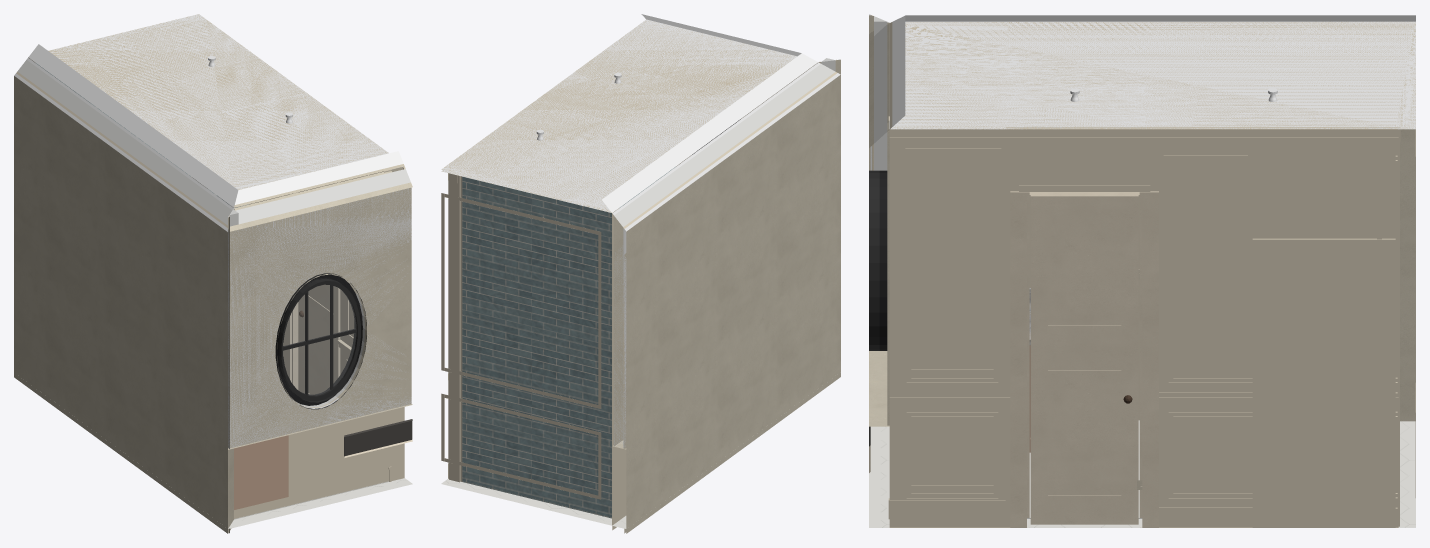
File: blue-bath-769226db25d2.glb
3 renders of one model, left to right at view 1: azimuth 30°, elevation 25°; view 2: azimuth 150°, elevation 25°; view 3: azimuth 270°, elevation 25°, orthographic. The views are drawn at different scales.
Visible parts, largest first — view 1: blue-bath-312b4ac1be39223d, blue-bath-bddaf205afbd60c0, blue-bath-e8793759323e04f0, blue-bath-9d91b47435c6fb33, blue-bath-33ee0b466567e5f0, blue-bath-df3e1f21720b0c39, blue-bath-d227da791438a32f, blue-bath-2f7d8eff34a2c180, blue-bath-39b94aca90fa4b53, blue-bath-bb2a37e95c56944b, blue-bath-bf159a19de53e60e, blue-bath-64753ebcb3824a84 (+7 smaller); view 2: blue-bath-312b4ac1be39223d, blue-bath-81319d6284883901, blue-bath-9d91b47435c6fb33, blue-bath-e8793759323e04f0, blue-bath-33ee0b466567e5f0, blue-bath-39b94aca90fa4b53, blue-bath-ed5fdcd3ee9c0dd5, blue-bath-3a4d9d62ecd7be1c, blue-bath-06754748489735a0, blue-bath-6e269356ae8bfd70, blue-bath-b63ee86b16afd4c0, blue-bath-0e16aad907f7d881 (+1 smaller); view 3: blue-bath-9d91b47435c6fb33, blue-bath-ed5fdcd3ee9c0dd5, blue-bath-ead09a0b3f9e3bd9, blue-bath-bf159a19de53e60e, blue-bath-3e649b0d114ae387, blue-bath-e8793759323e04f0, blue-bath-8798d08755b4aa77, blue-bath-8f5d8501f6e548f5, blue-bath-6e269356ae8bfd70, blue-bath-0e16aad907f7d881, blue-bath-d8e4d1e2b1f6ec6c, blue-bath-d227da791438a32f (+18 smaller).
Boxes of the visible parts, <box> form: blue-bath-312b4ac1be39223d: <box>14,73,229,449</box>; blue-bath-bddaf205afbd60c0: <box>230,182,411,447</box>; blue-bath-e8793759323e04f0: <box>30,14,403,204</box>; blue-bath-9d91b47435c6fb33: <box>28,14,404,207</box>; blue-bath-33ee0b466567e5f0: <box>14,293,228,533</box>; blue-bath-df3e1f21720b0c39: <box>229,184,412,448</box>; blue-bath-d227da791438a32f: <box>275,273,366,409</box>; blue-bath-2f7d8eff34a2c180: <box>228,404,412,533</box>; blue-bath-39b94aca90fa4b53: <box>17,60,238,226</box>; blue-bath-bb2a37e95c56944b: <box>234,435,288,509</box>; blue-bath-bf159a19de53e60e: <box>298,183,335,394</box>; blue-bath-64753ebcb3824a84: <box>235,169,410,407</box>; blue-bath-312b4ac1be39223d: <box>624,59,840,449</box>; blue-bath-81319d6284883901: <box>462,177,611,518</box>; blue-bath-9d91b47435c6fb33: <box>441,19,817,212</box>; blue-bath-e8793759323e04f0: <box>442,14,815,210</box>; blue-bath-33ee0b466567e5f0: <box>612,293,840,533</box>; blue-bath-39b94aca90fa4b53: <box>614,58,835,447</box>; blue-bath-ed5fdcd3ee9c0dd5: <box>449,173,460,482</box>; blue-bath-3a4d9d62ecd7be1c: <box>612,61,821,446</box>; blue-bath-06754748489735a0: <box>441,193,601,408</box>; blue-bath-6e269356ae8bfd70: <box>441,170,618,524</box>; blue-bath-b63ee86b16afd4c0: <box>441,393,601,499</box>; blue-bath-0e16aad907f7d881: <box>441,478,626,528</box>; blue-bath-9d91b47435c6fb33: <box>890,21,1415,129</box>; blue-bath-ed5fdcd3ee9c0dd5: <box>1005,127,1399,526</box>; blue-bath-ead09a0b3f9e3bd9: <box>1252,238,1395,527</box>; blue-bath-bf159a19de53e60e: <box>1030,195,1138,524</box>; blue-bath-3e649b0d114ae387: <box>889,121,1005,499</box>; blue-bath-e8793759323e04f0: <box>892,15,1415,126</box>; blue-bath-8798d08755b4aa77: <box>1010,191,1158,527</box>; blue-bath-8f5d8501f6e548f5: <box>889,129,1398,146</box>; blue-bath-6e269356ae8bfd70: <box>1398,127,1415,527</box>; blue-bath-0e16aad907f7d881: <box>869,421,1415,527</box>; blue-bath-d8e4d1e2b1f6ec6c: <box>906,156,998,382</box>; blue-bath-d227da791438a32f: <box>869,170,887,350</box>.
Size of the model in its own units: 1.8 by 3.04 by 3.6.
29 materials, 6 textured.
